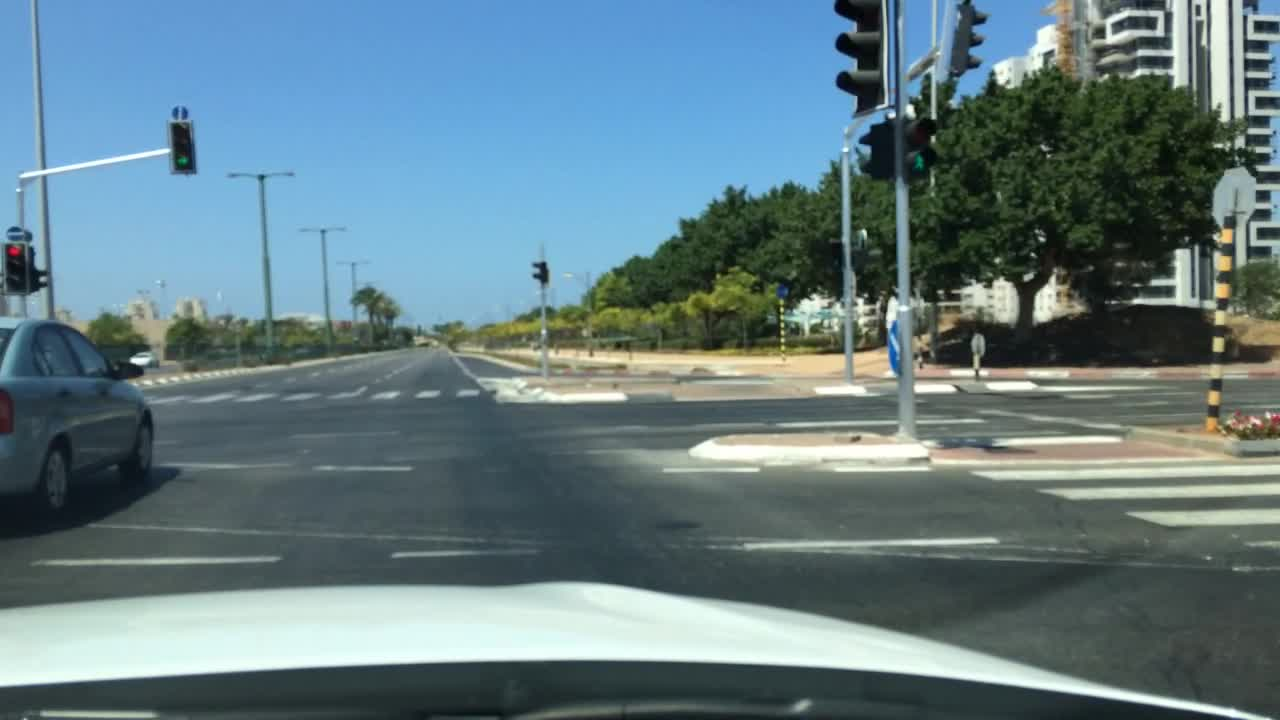car: (1, 315, 158, 528), (128, 348, 161, 369), (428, 338, 443, 349)
traffic light: (829, 0, 887, 108), (948, 1, 990, 78), (855, 116, 893, 180), (907, 113, 938, 180), (165, 116, 199, 172), (6, 239, 28, 292), (27, 247, 49, 294), (530, 260, 548, 287)
traffic sign: (1206, 164, 1263, 223), (883, 316, 906, 373), (967, 334, 984, 356), (776, 286, 792, 300)
